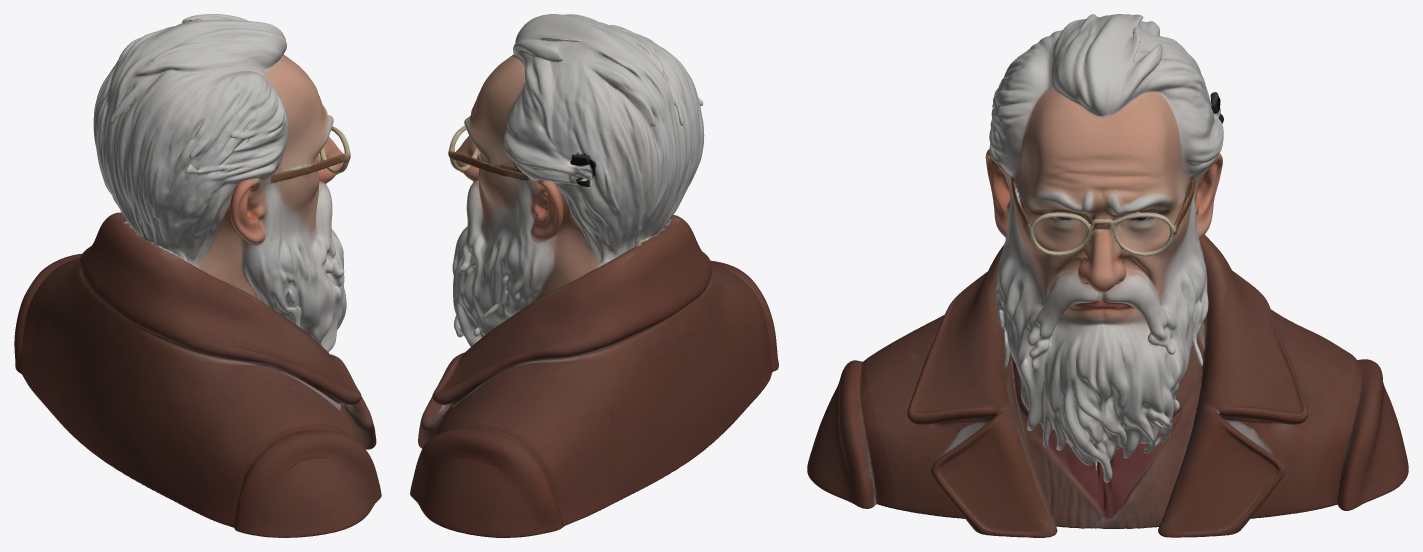
The model's file is detailed_realistic_model_albusdumbledore_04.glb.
The picture shows the model from 3 angles, left to right: view 1: azimuth 30°, elevation 25°; view 2: azimuth 150°, elevation 25°; view 3: azimuth 270°, elevation 25°; orthographic projection. The views are drawn at different scales.
Parts seen in each view (by area): view 1: tripo_node_2f263e8c-e944-41de-8cd2-cd1722fe464e; view 2: tripo_node_2f263e8c-e944-41de-8cd2-cd1722fe464e; view 3: tripo_node_2f263e8c-e944-41de-8cd2-cd1722fe464e.
Boxes of the visible parts, x1,y1,x2,y2 form: tripo_node_2f263e8c-e944-41de-8cd2-cd1722fe464e: (14, 14, 381, 537); tripo_node_2f263e8c-e944-41de-8cd2-cd1722fe464e: (410, 14, 778, 537); tripo_node_2f263e8c-e944-41de-8cd2-cd1722fe464e: (807, 14, 1408, 537).
Bounding box in the file's own units: 0.5163 × 0.8236 × 1.
Materials: 1 (1 with a texture image).
